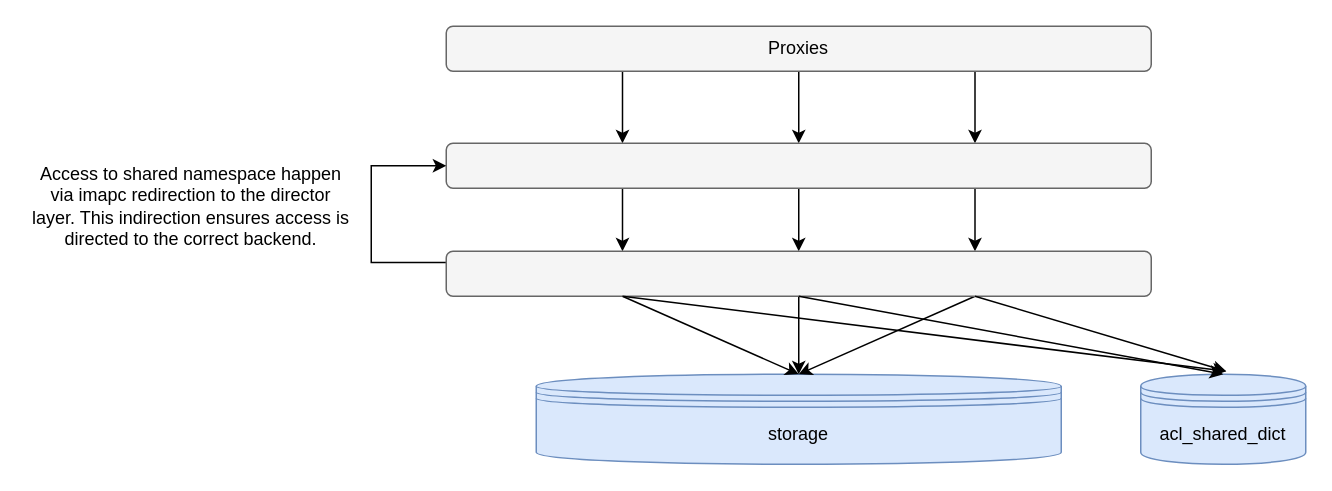
Image size: 1332x491. Some labels were removed from this diagram. The shapes that lost their labels are listed below. From the top down, each one's box as (x1, y1, x2, y2) in pixels, then its label:
(445, 142, 1151, 188): Directors
(445, 250, 1151, 296): Backends
